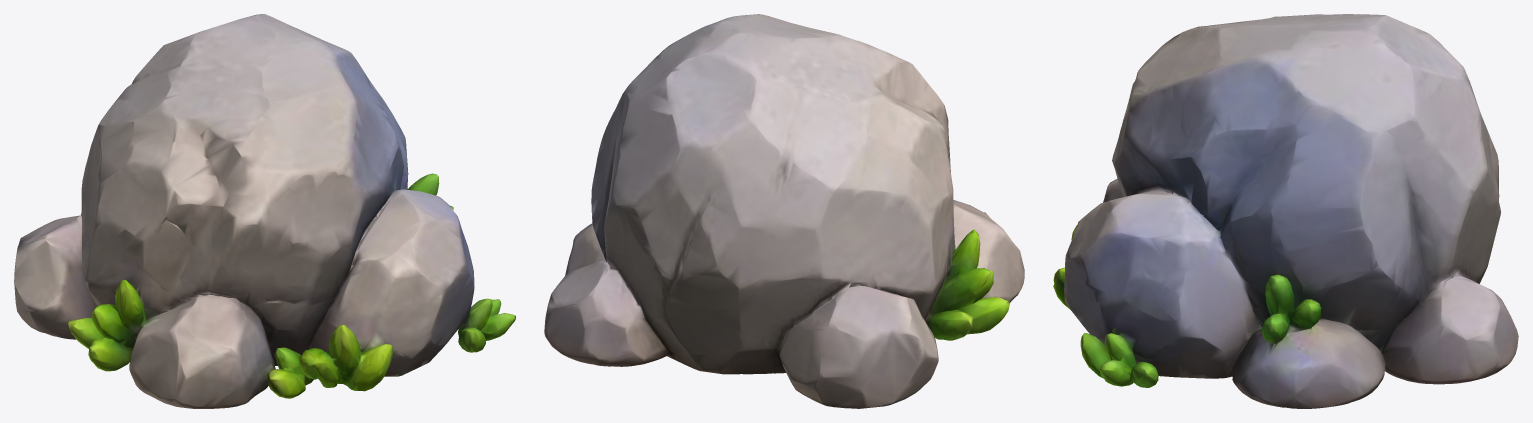
Rendered from rock.glb.
3 views of the same model, side by side, from view 1: azimuth 30°, elevation 25°; view 2: azimuth 150°, elevation 25°; view 3: azimuth 270°, elevation 25° (orthographic). The views are drawn at different scales.
Bounding box in the file's own units: 1 × 0.6689 × 0.9529.
1 material, 1 textured.
